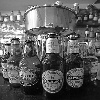beer: (42, 31, 65, 100)
